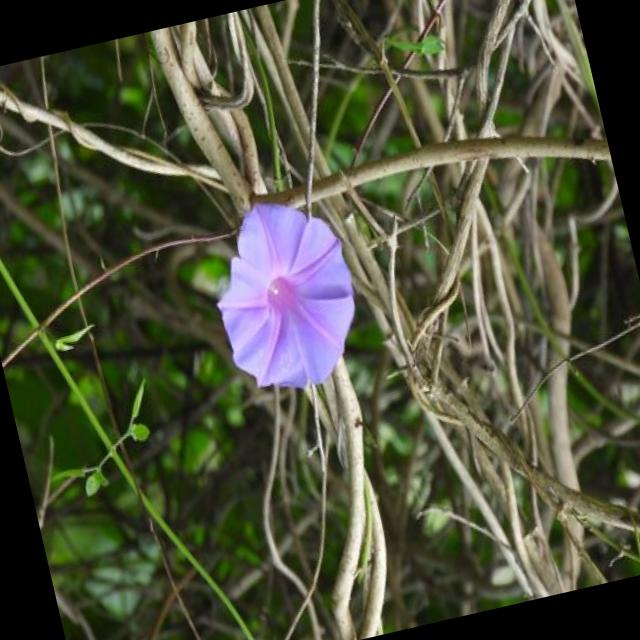ipomoea: (191, 180, 377, 408)
